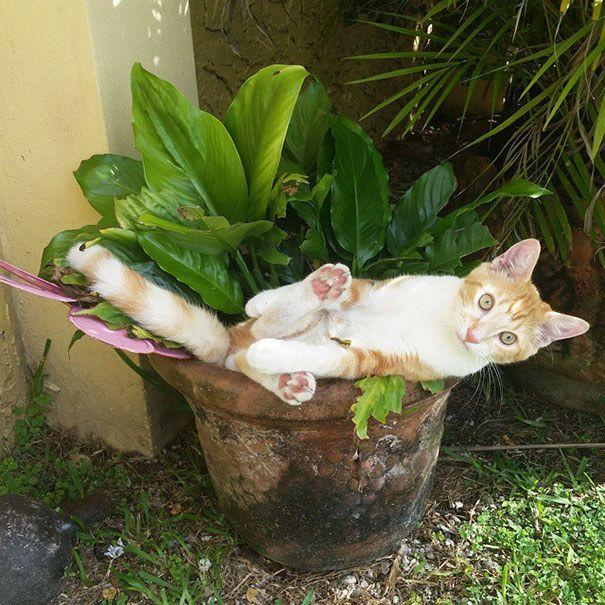kedo: (67, 240, 589, 405)
